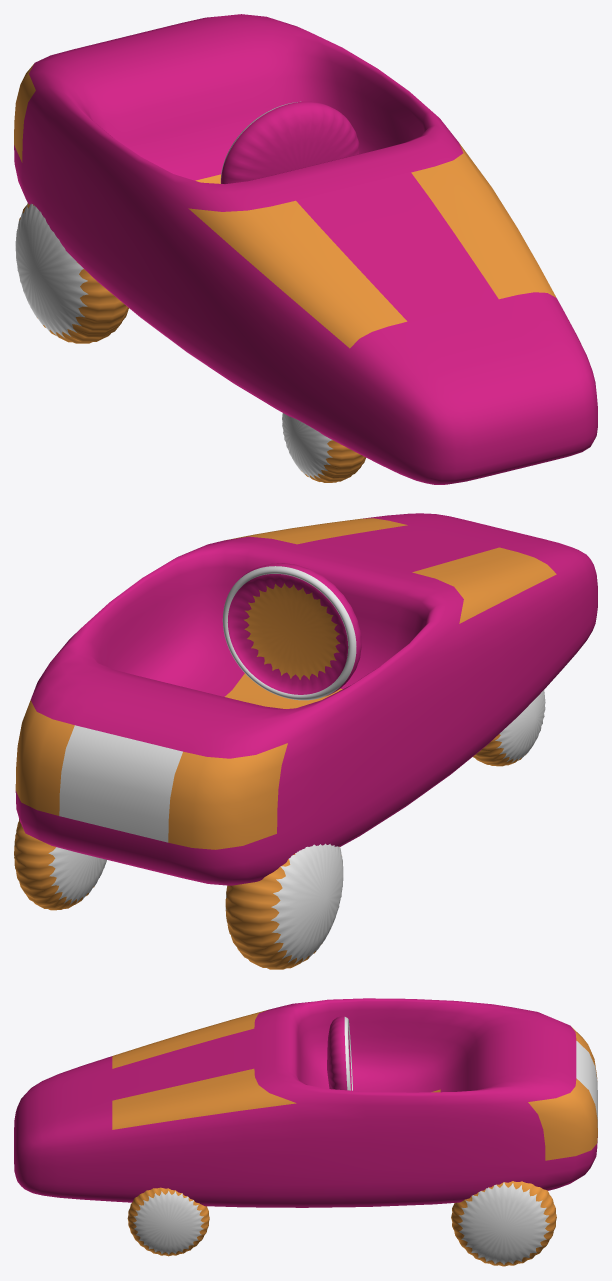
File: candycar.glb
3 renders of one model, top to bottom at view 1: azimuth 30°, elevation 25°; view 2: azimuth 150°, elevation 25°; view 3: azimuth 270°, elevation 25°, orthographic. The views are drawn at different scales.
Parts seen in each view (by area): view 1: Cube; view 2: Cube; view 3: Cube.
Boxes of the visible parts, x1,y1,x2,y2 form: Cube: (14, 14, 597, 484); Cube: (14, 513, 597, 969); Cube: (14, 998, 597, 1266).
Bounding box in the file's own units: 2.09 × 1.96 × 5.03.
